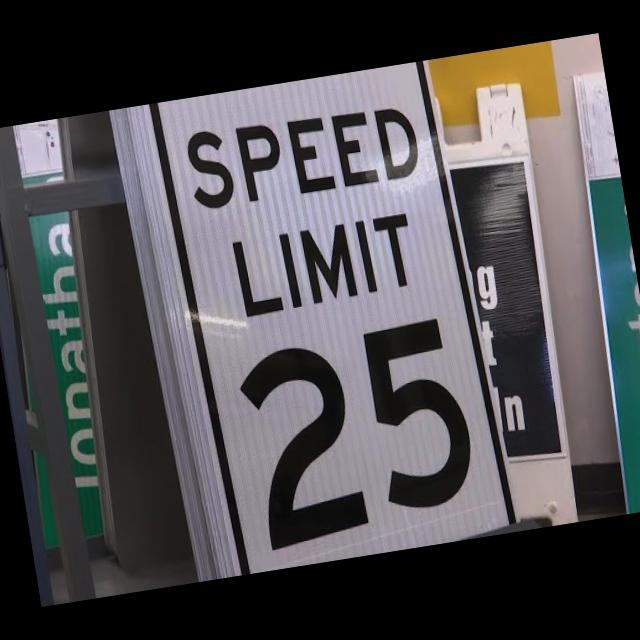Speed Limit Signs: (148, 56, 518, 578)
